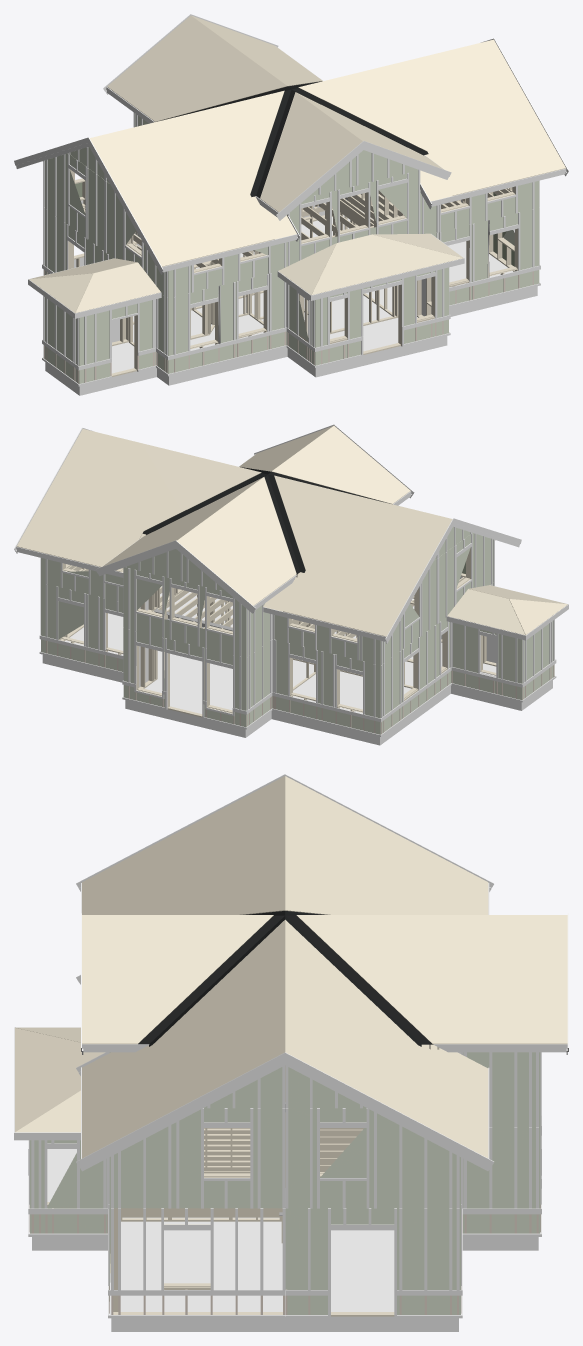
The model's file is House3.glb.
3 views of the same model, one above another, from view 1: azimuth 30°, elevation 25°; view 2: azimuth 150°, elevation 25°; view 3: azimuth 270°, elevation 25° (orthographic). The views are drawn at different scales.
Parts seen in each view (by area): view 1: Obj3d66-11636677-2-601; view 2: Obj3d66-11636677-2-601; view 3: Obj3d66-11636677-2-601.
Part boxes in pixels (<box>): Obj3d66-11636677-2-601: <box>14,14,568,395</box>; Obj3d66-11636677-2-601: <box>14,424,568,745</box>; Obj3d66-11636677-2-601: <box>14,774,568,1331</box>.
Size of the model in its own units: 1.27 by 0.5292 by 0.9116.
1 material, 1 textured.
